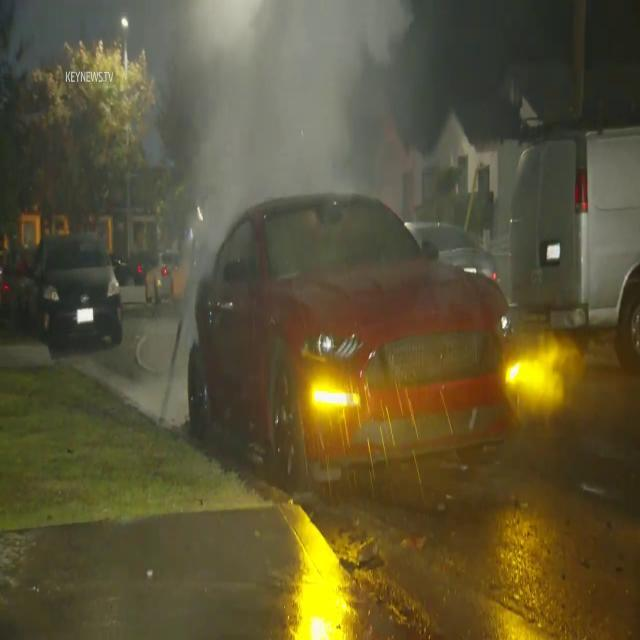Smoke: (182, 0, 436, 238)
